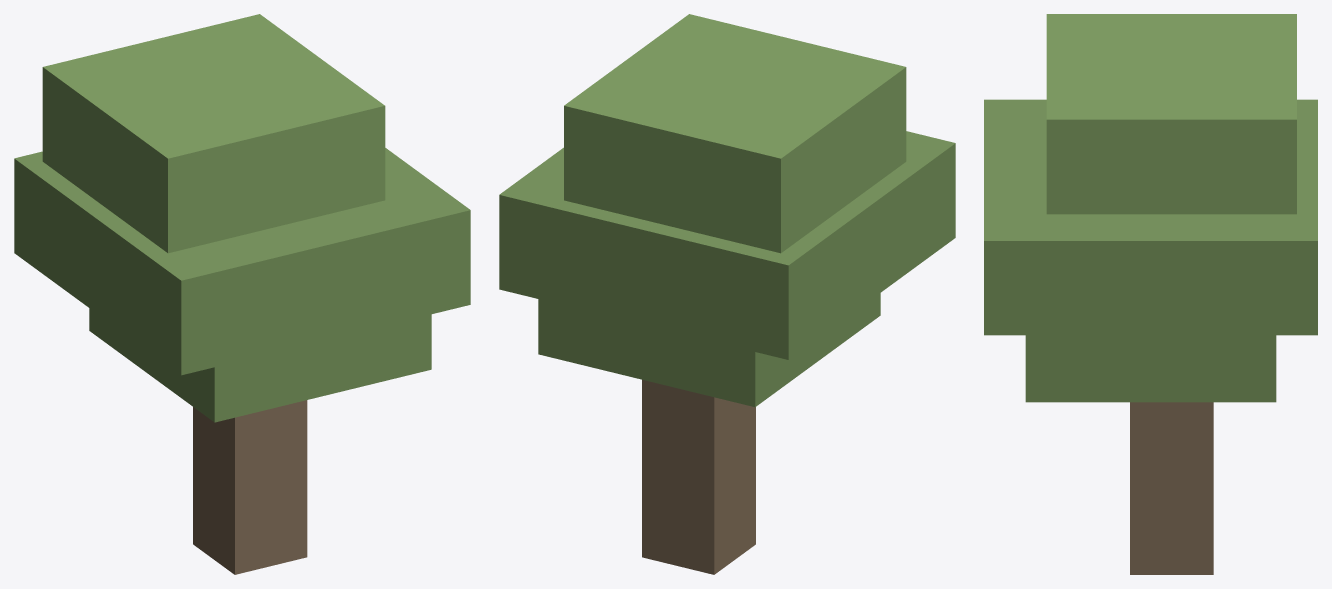
The model's file is castano_03.glb.
3 renders of one model, left to right at view 1: azimuth 30°, elevation 25°; view 2: azimuth 150°, elevation 25°; view 3: azimuth 270°, elevation 25°, orthographic.
Parts seen in each view (by area): view 1: castano_03; view 2: castano_03; view 3: castano_03.
Part boxes in pixels (x1,y1,x2,y2): castano_03: [14, 14, 470, 574]; castano_03: [499, 14, 955, 574]; castano_03: [984, 14, 1317, 574].
Bounding box in the file's own units: 1.6 × 2.5 × 1.6.
